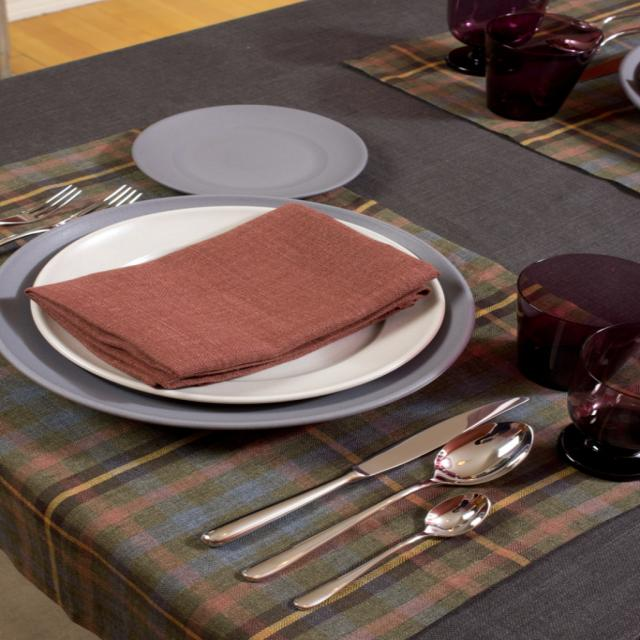non-organic waste: (0, 197, 475, 425), (95, 100, 384, 198)
